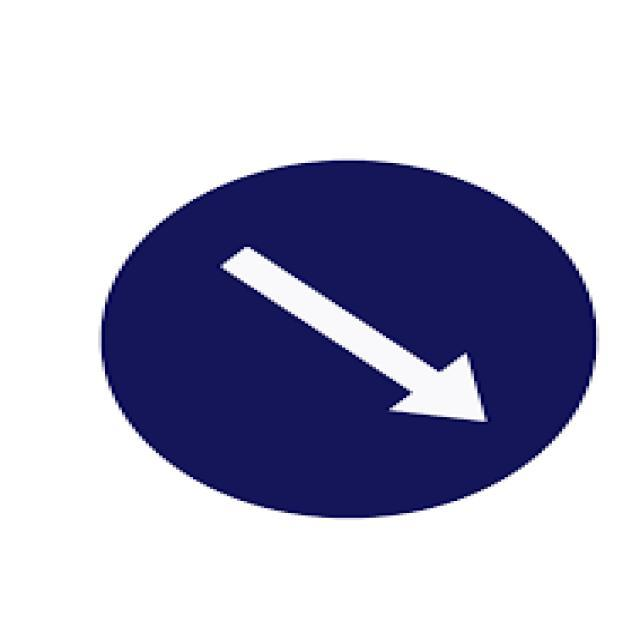compulsary keep right: (100, 160, 595, 518)
